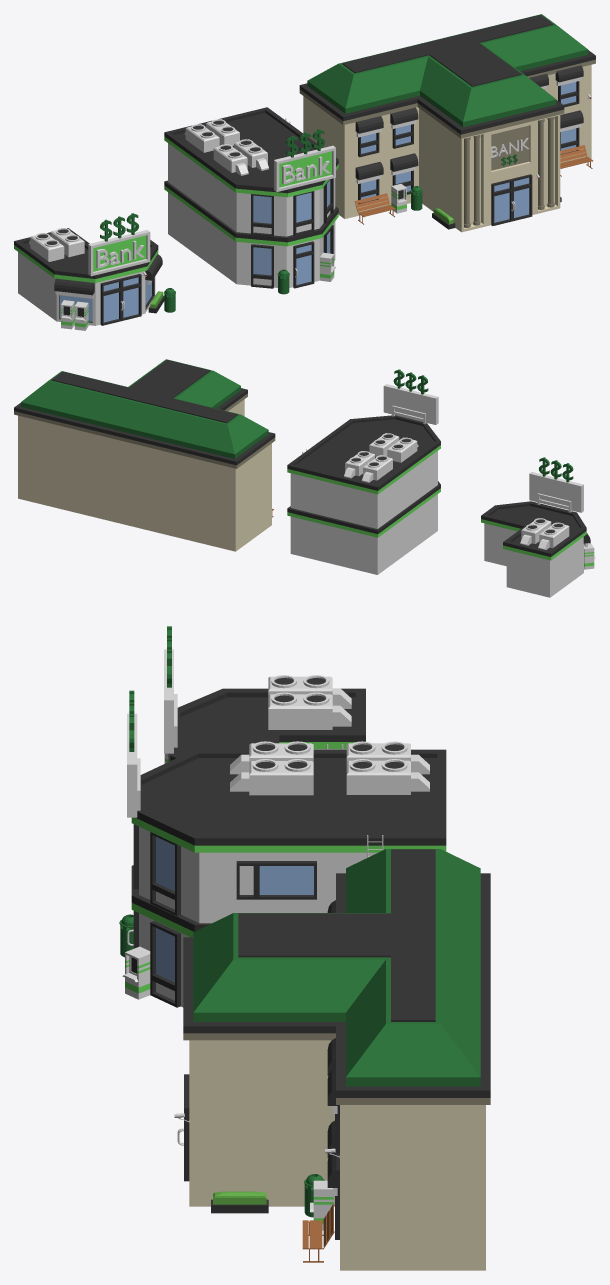
File: bank.fbx
The picture shows the model from 3 angles, top to bottom: view 1: azimuth 30°, elevation 25°; view 2: azimuth 150°, elevation 25°; view 3: azimuth 270°, elevation 25°; orthographic projection. The views are drawn at different scales.
Visible parts, largest first — view 1: bank_t3, bank_t2, bank_t1; view 2: bank_t3, bank_t2, bank_t1; view 3: bank_t3, bank_t2, bank_t1.
Part boxes in pixels (x1,y1,x2,y2): bank_t3: (299,14,595,232); bank_t2: (164,107,338,294); bank_t1: (14,213,175,330); bank_t3: (14,359,275,551); bank_t2: (287,369,440,574); bank_t1: (481,457,595,597); bank_t3: (174,849,490,1270); bank_t2: (119,690,446,1007); bank_t1: (164,626,365,763).
Size of the model in its own units: 2333 by 594 by 738.
